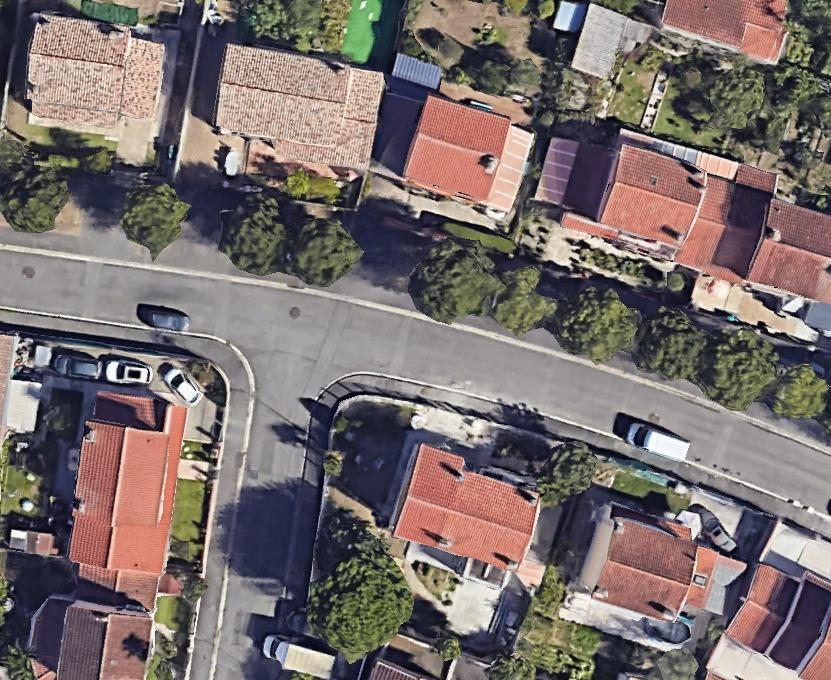maison: (64, 391, 187, 581), (208, 42, 386, 173), (385, 441, 549, 578), (560, 132, 712, 263), (20, 13, 166, 133), (400, 93, 535, 212), (26, 560, 159, 680), (574, 503, 704, 622), (722, 550, 831, 680), (674, 173, 773, 286), (746, 198, 831, 306), (664, 0, 787, 61)
